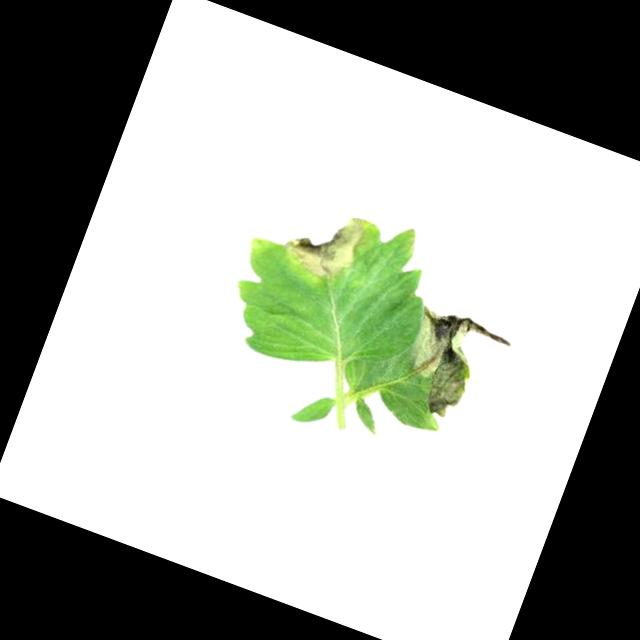Late_blight: (387, 298, 514, 431), (275, 192, 372, 291)
